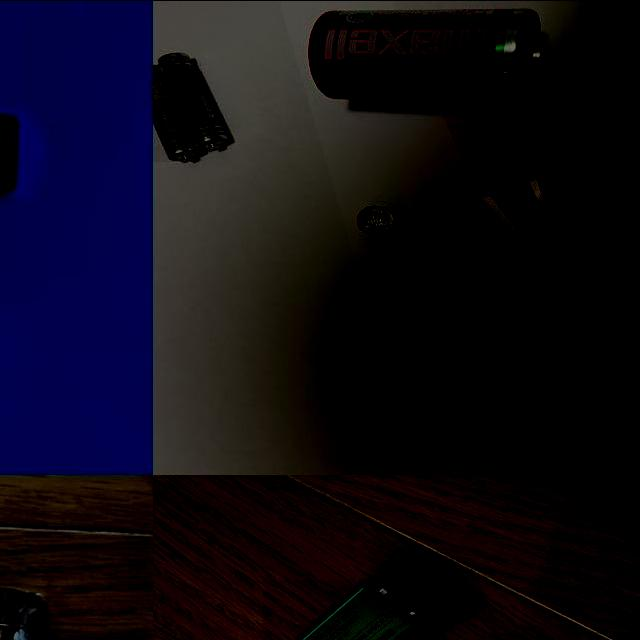9V: (467, 170, 632, 326), (263, 579, 424, 640)
